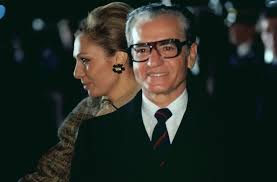middle_eastern_male: (129, 7, 191, 86)
